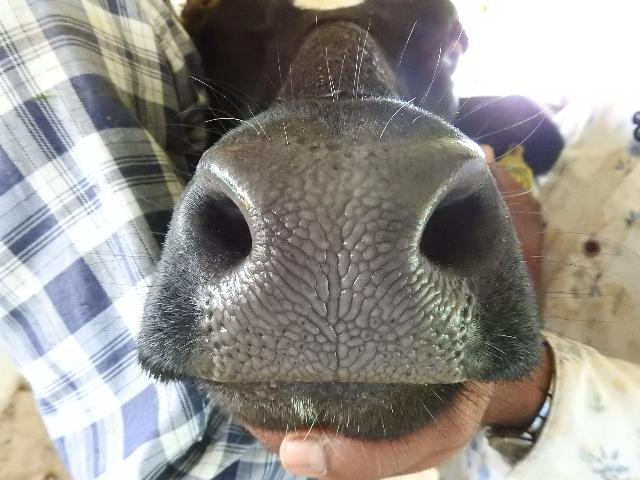Muzzle: (219, 154, 429, 382)
